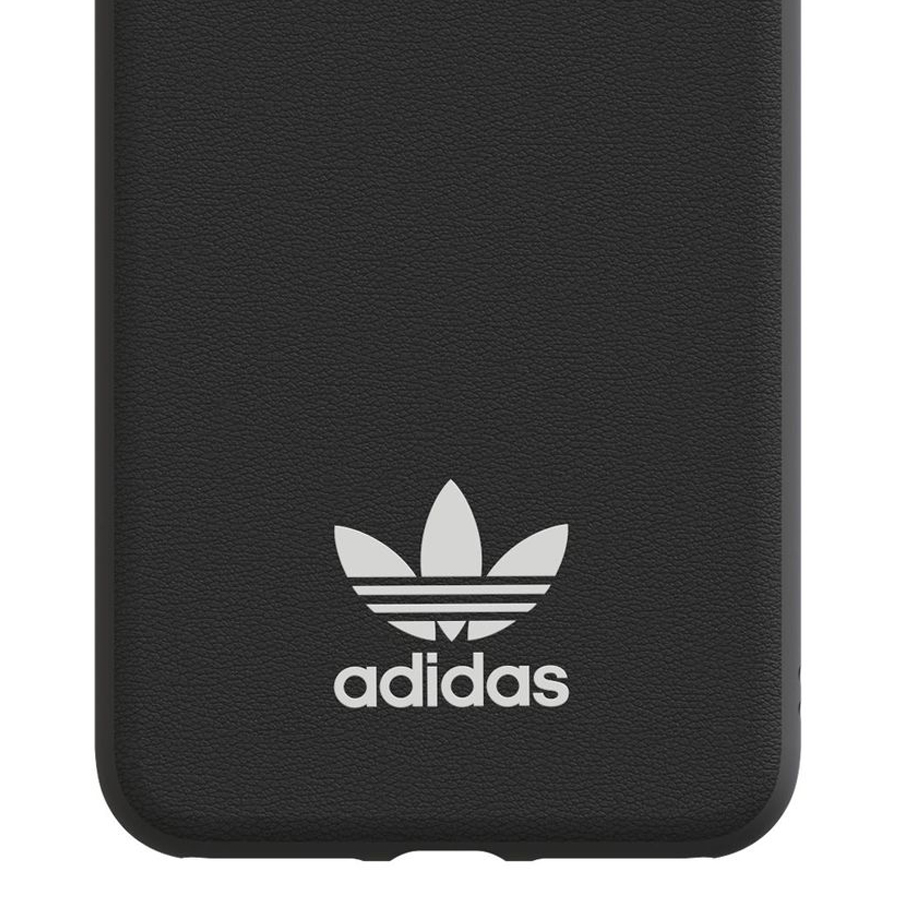Adidas: (325, 469, 580, 721)
